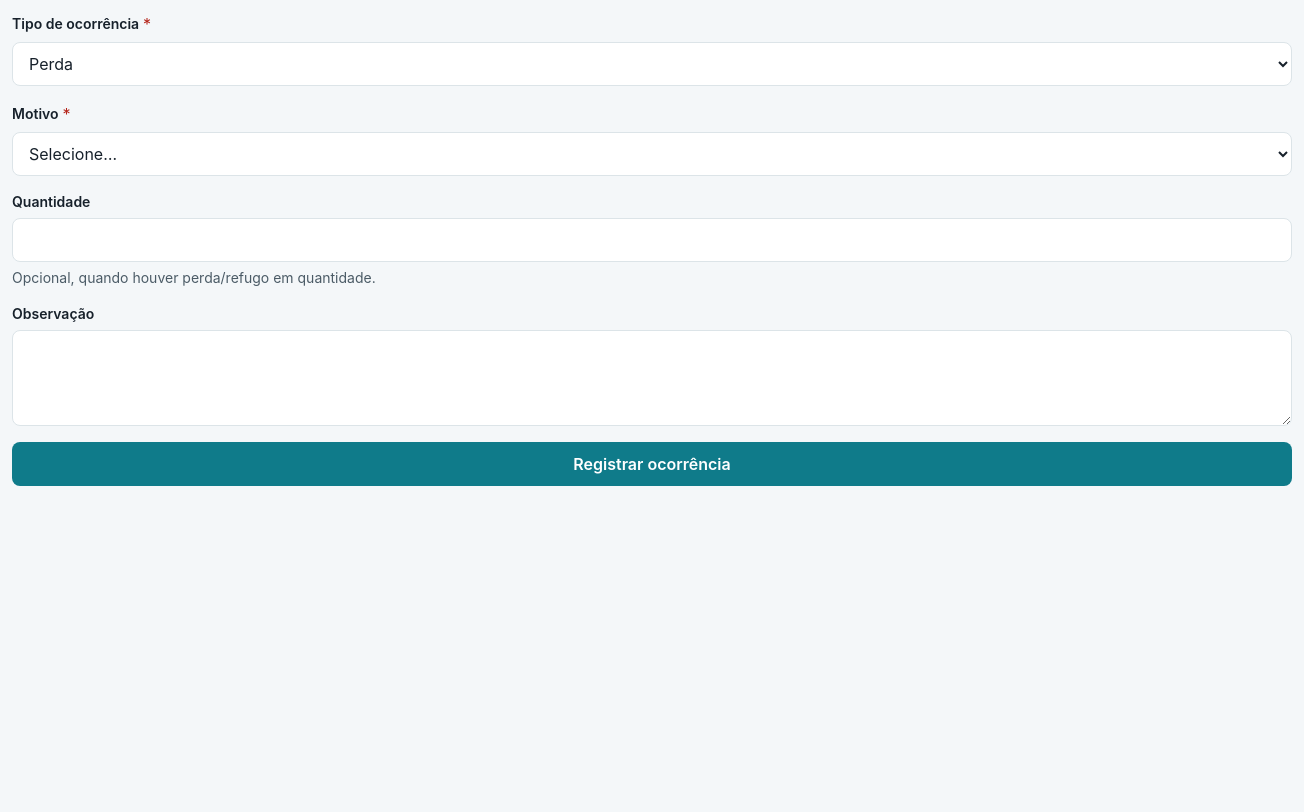
Test: OcorrenciaForm › registra a ocorrência com o motivo escolhido e confirma (FE-11)
This screenshot has width=1304, height=812.
Select "Defeito de corte" in the dropdown labelled "Motivo" at x=652, y=154, box [12, 132, 1292, 176]
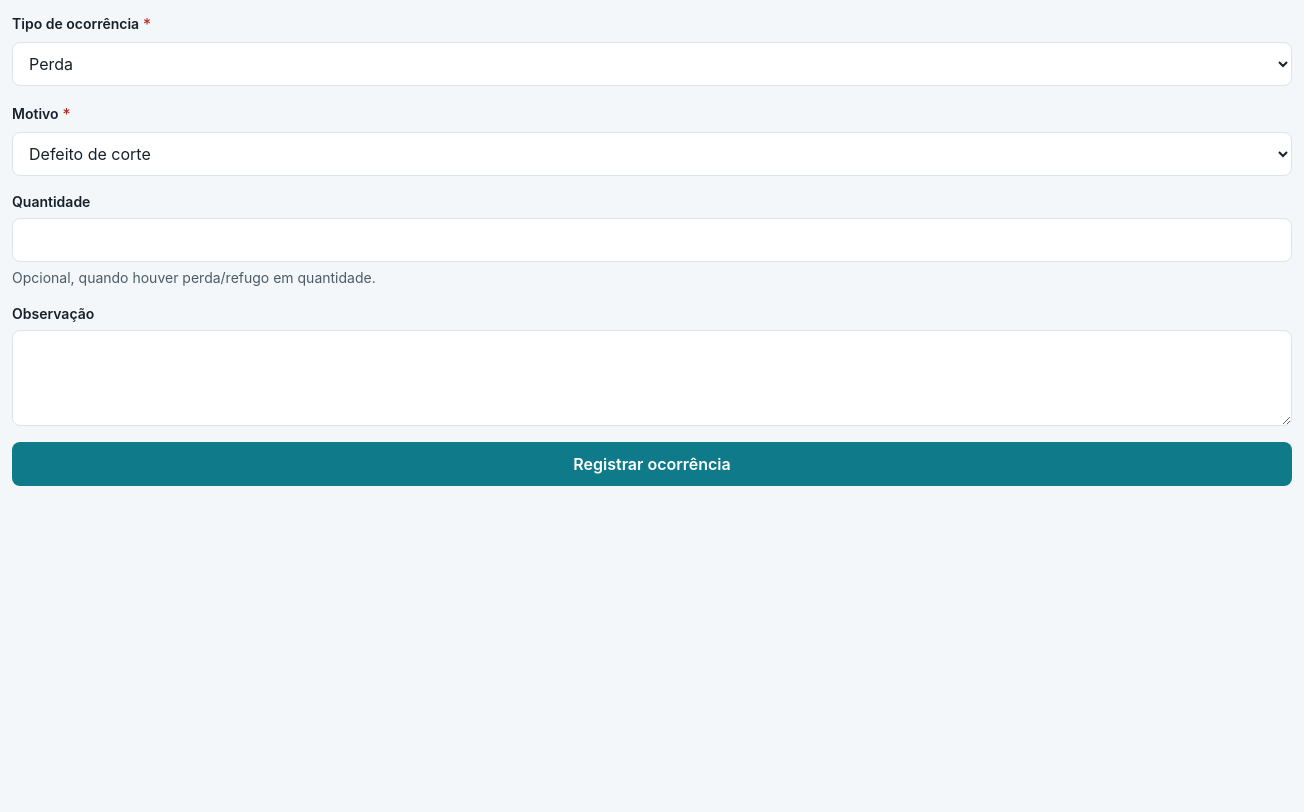
Click the button "Registrar ocorrência" at x=652, y=464, box [12, 442, 1292, 486]
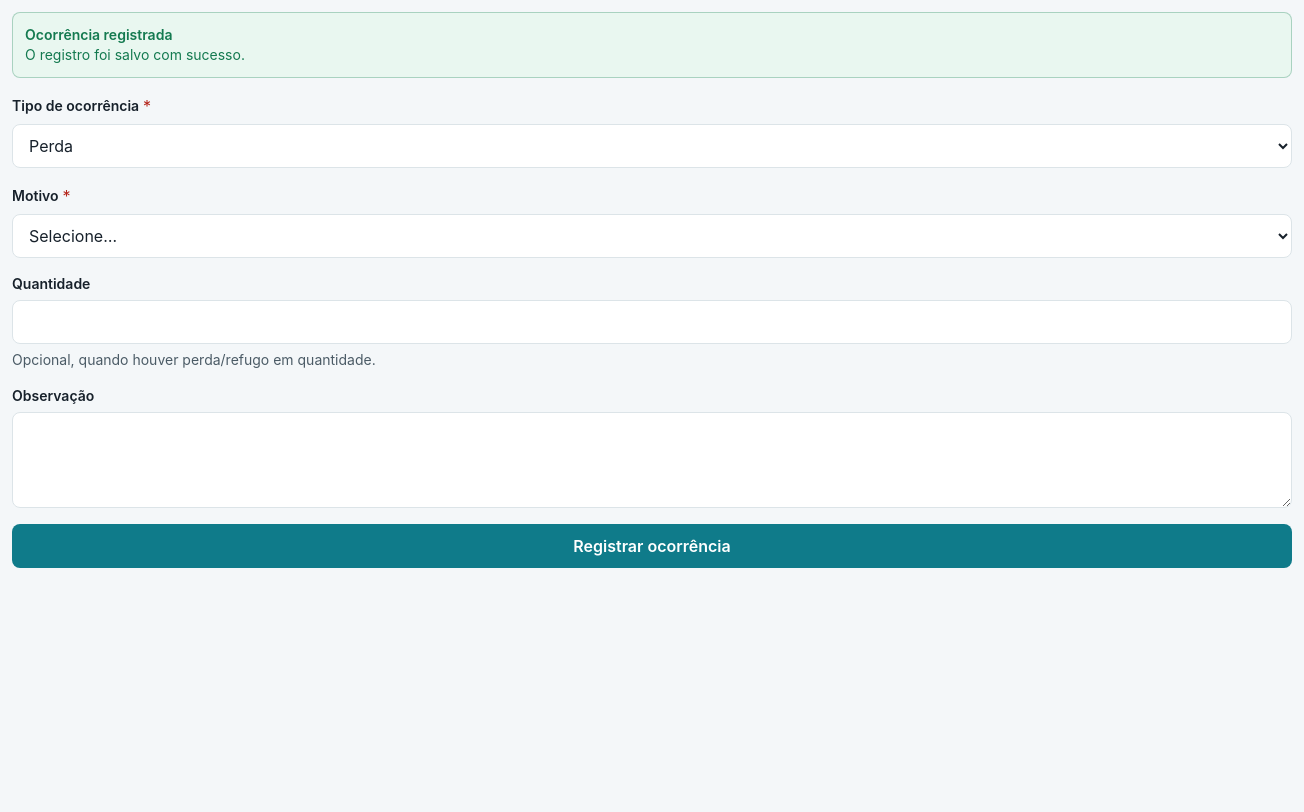
Now the text "Ocorrência registrada" is shown, box [25, 26, 172, 43]
